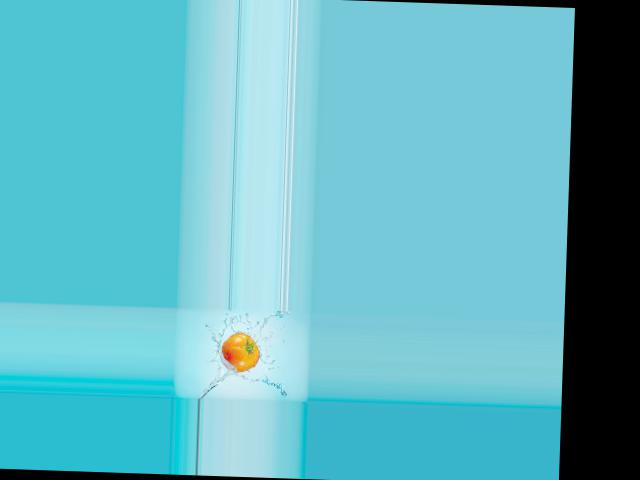tomato: (220, 331, 260, 372)
